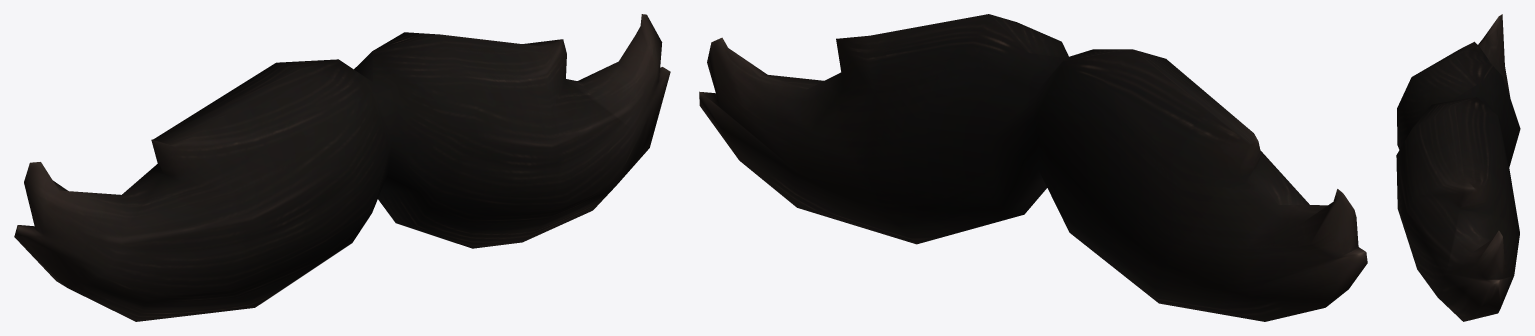
Rendered from Hats_Mustache.fbx.
3 renders of one model, left to right at view 1: azimuth 30°, elevation 25°; view 2: azimuth 150°, elevation 25°; view 3: azimuth 270°, elevation 25°, orthographic. The views are drawn at different scales.
Visible parts, largest first — view 1: Mustache; view 2: Mustache; view 3: Mustache.
Part boxes in pixels (bbox=[...]): Mustache: bbox=[14, 14, 670, 321]; Mustache: bbox=[699, 14, 1367, 321]; Mustache: bbox=[1396, 14, 1520, 321].
Size of the model in its own units: 406 by 135 by 91.13.
